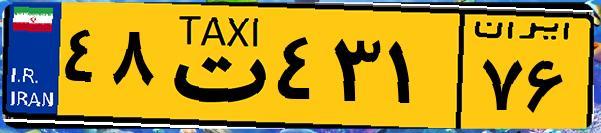1: (385, 28, 445, 110)
3: (330, 28, 385, 110)
4: (270, 28, 330, 110), (57, 26, 110, 100)
6: (525, 38, 570, 115)
7: (475, 38, 525, 113)
8: (110, 28, 158, 98)
ت: (158, 12, 270, 120)
